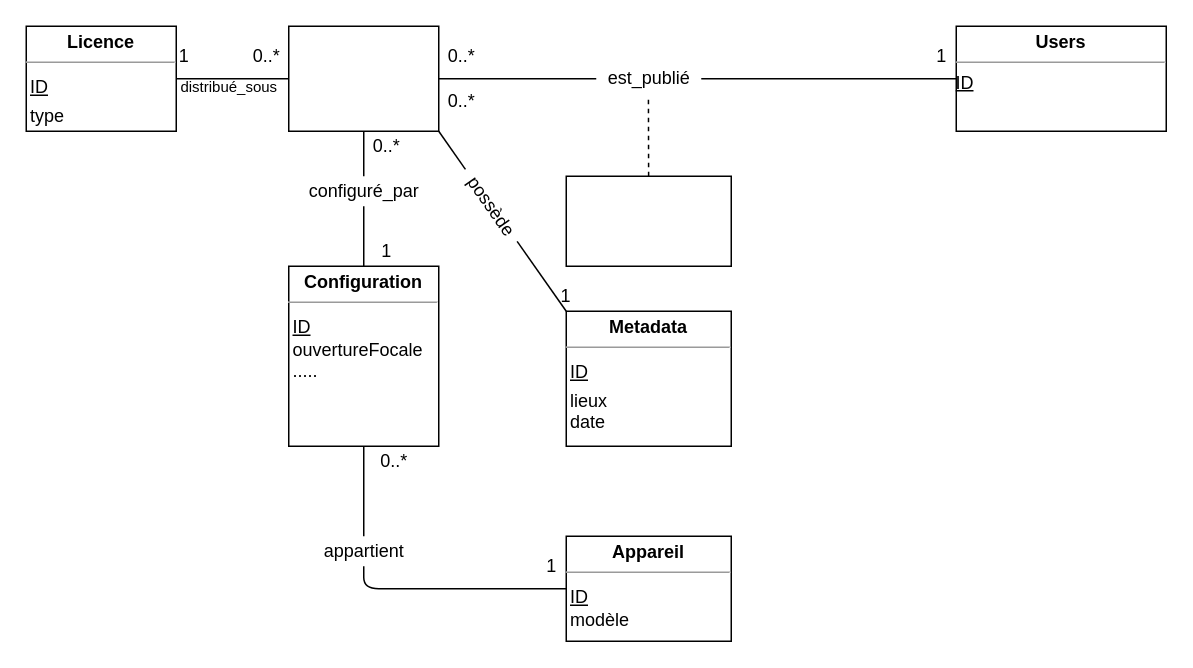
The diagram is 1193 pixels wide and 668 high, and some of its shapes have lost their labels. Each missing label, with the centre of its shape:
date: the point at 648,220
Photo Code: the point at 363,78
